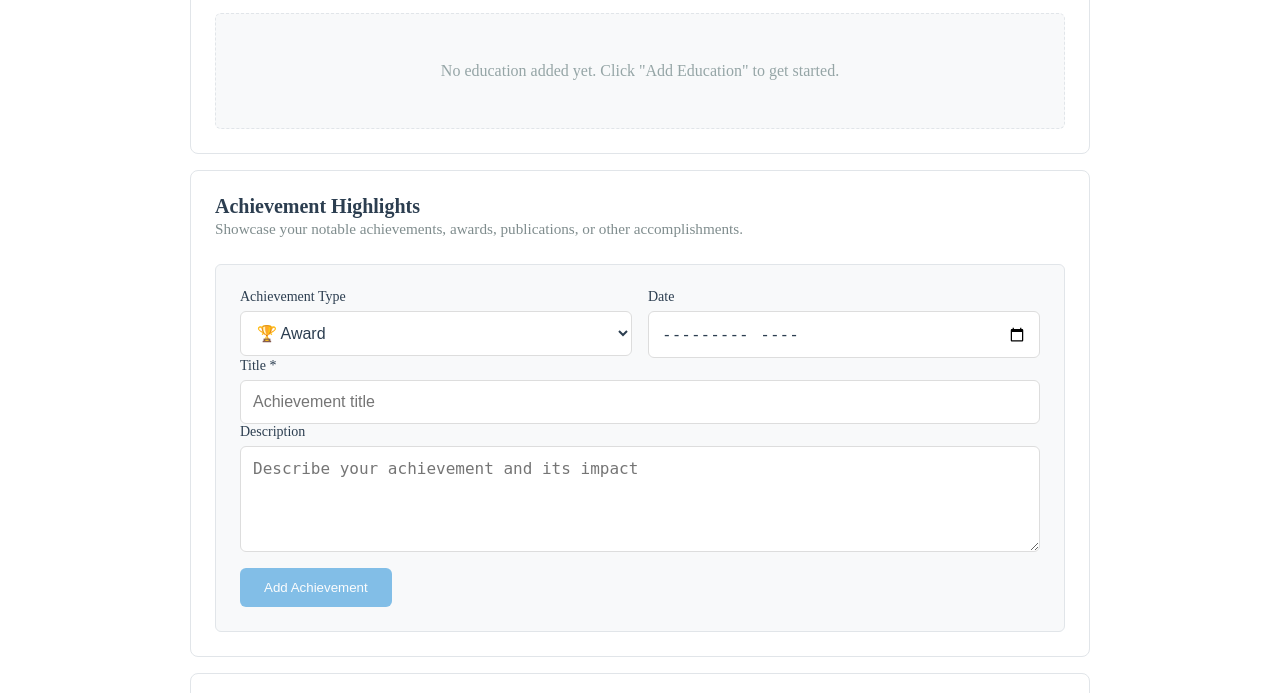
Test case: ExperienceStep Component › Achievement Management › allows adding achievements with different types
(page scrolled)
// Fill achievement form
Step 1. Select "📄 Publication" in the dropdown showing "🏆 Award" → coordinates (436, 334), box [240,311,632,356]
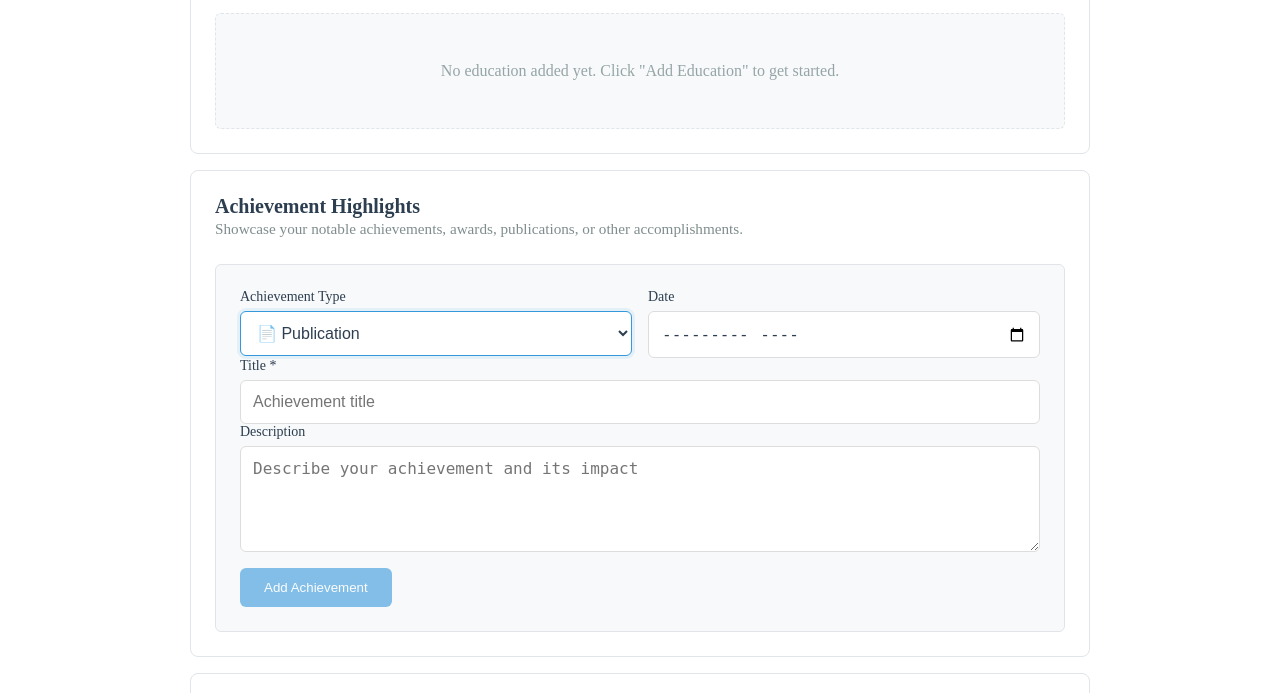
Step 2. Type "Published Research Paper" into the field with placeholder "Achievement title" → coordinates (640, 402), box [240,380,1040,424]
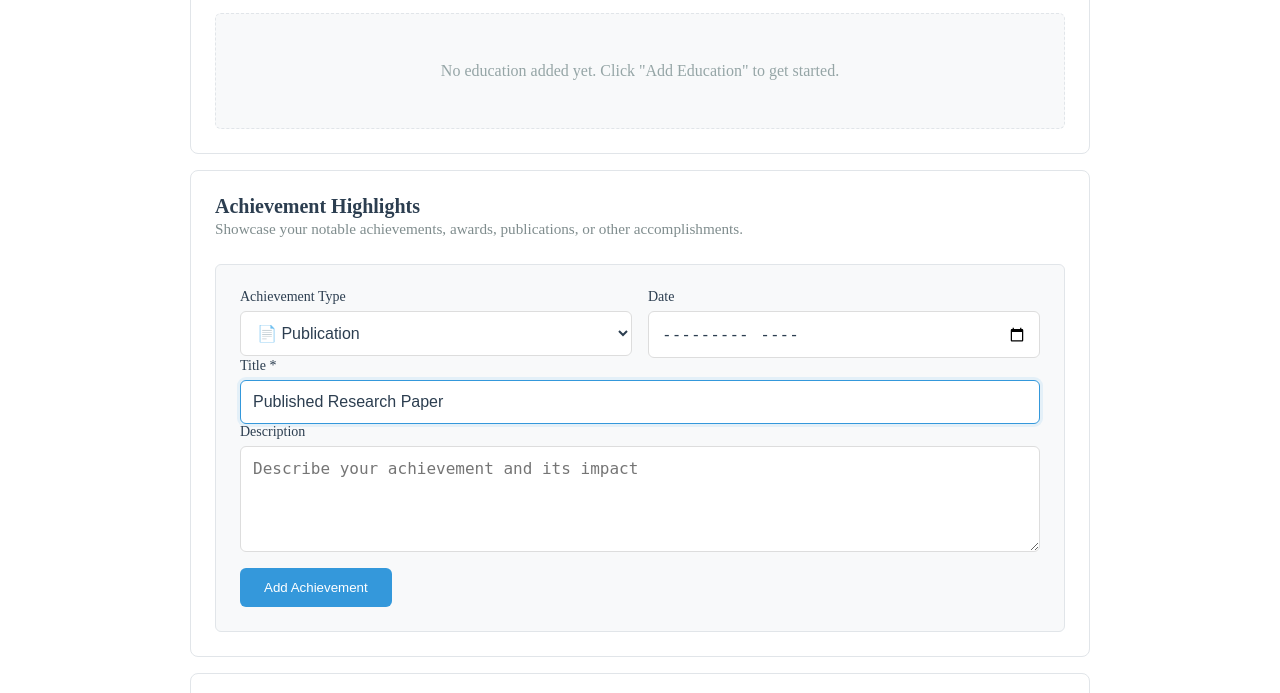
Step 3. Type "Research on AI applications" into the text box with placeholder "Describe your achievement and its impact" → coordinates (640, 499), box [240,446,1040,552]
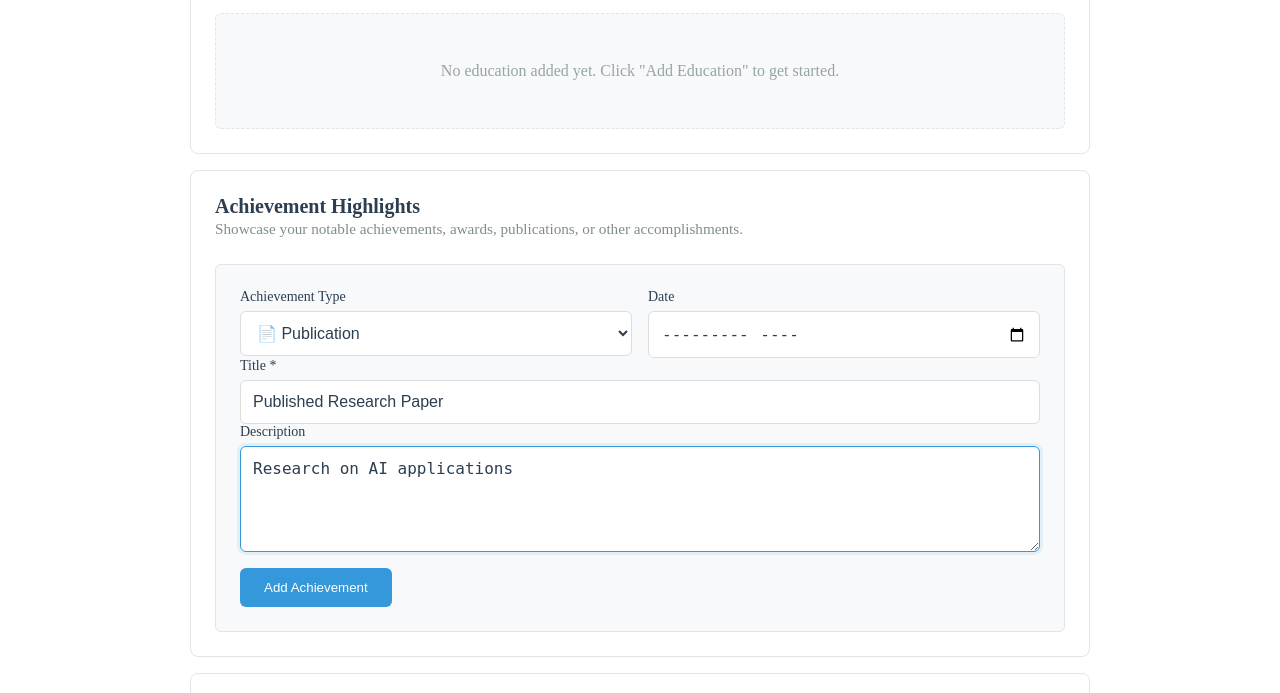
Step 4. Type "2023-06" into the field below "Date" → coordinates (844, 335), box [648,311,1040,358]
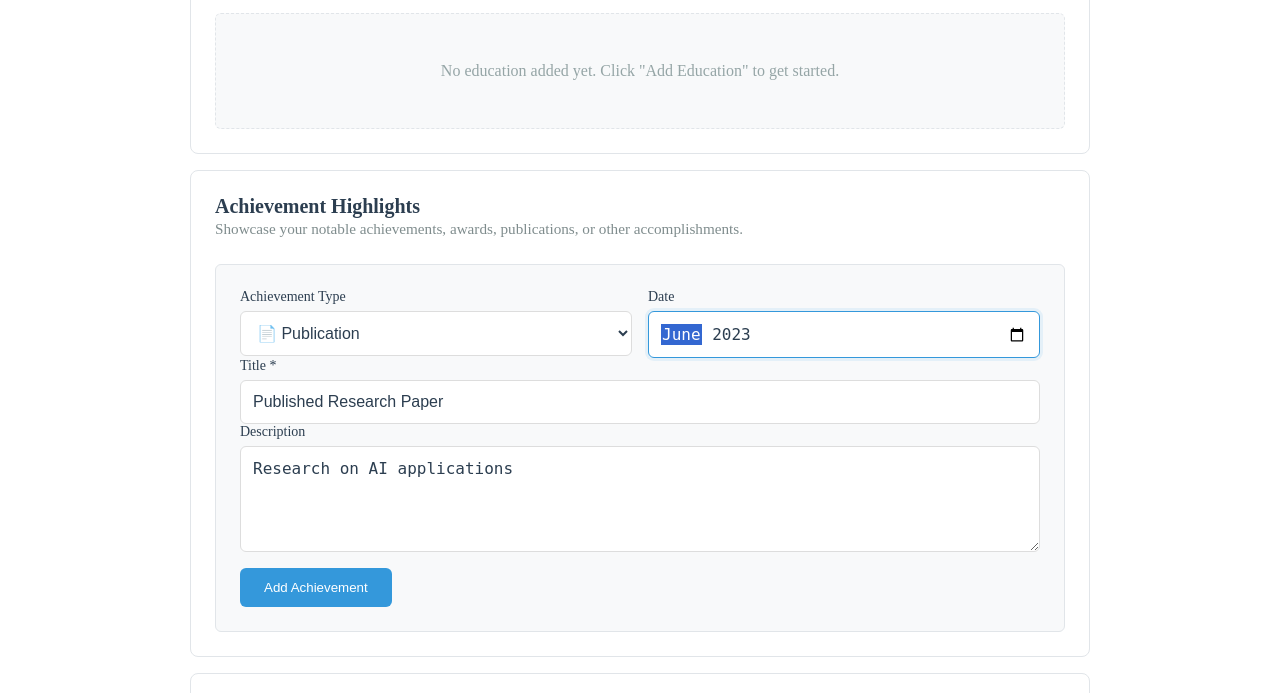
// Add achievement
Step 5. Click the button "Add Achievement" → coordinates (316, 588), box [240,568,392,607]
(page scrolled)
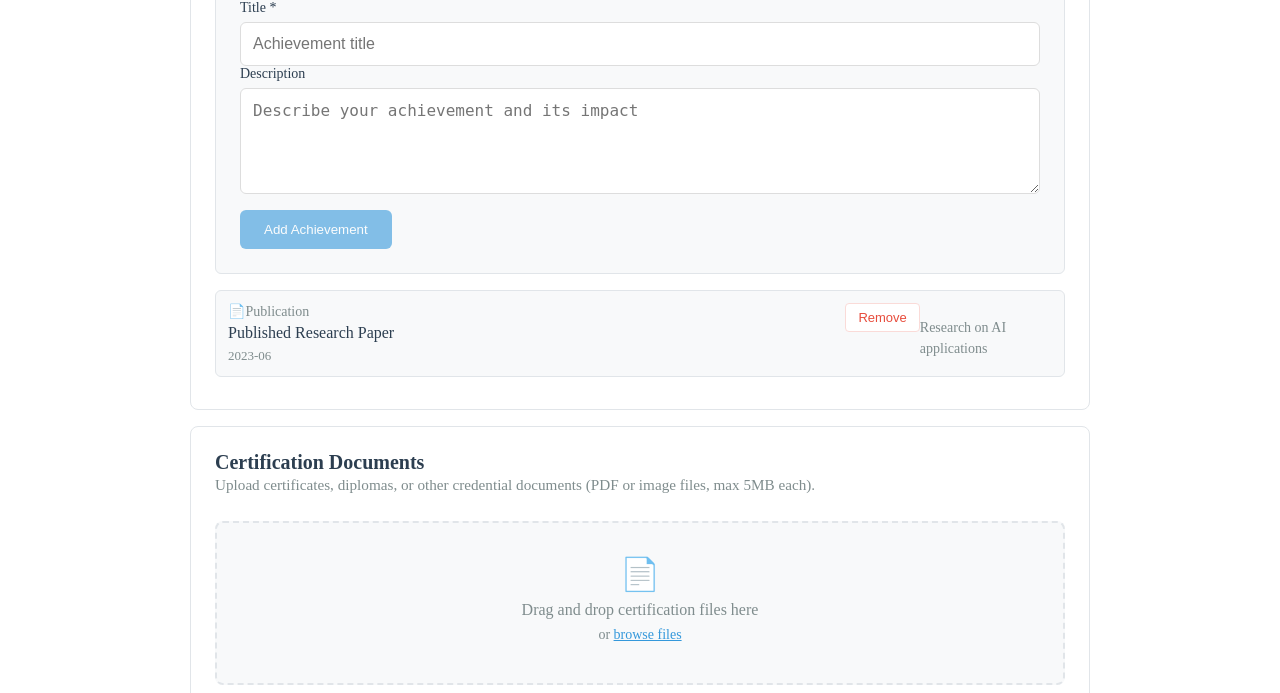
Result: the heading "Published Research Paper" is shown at [228,324,394,341]
